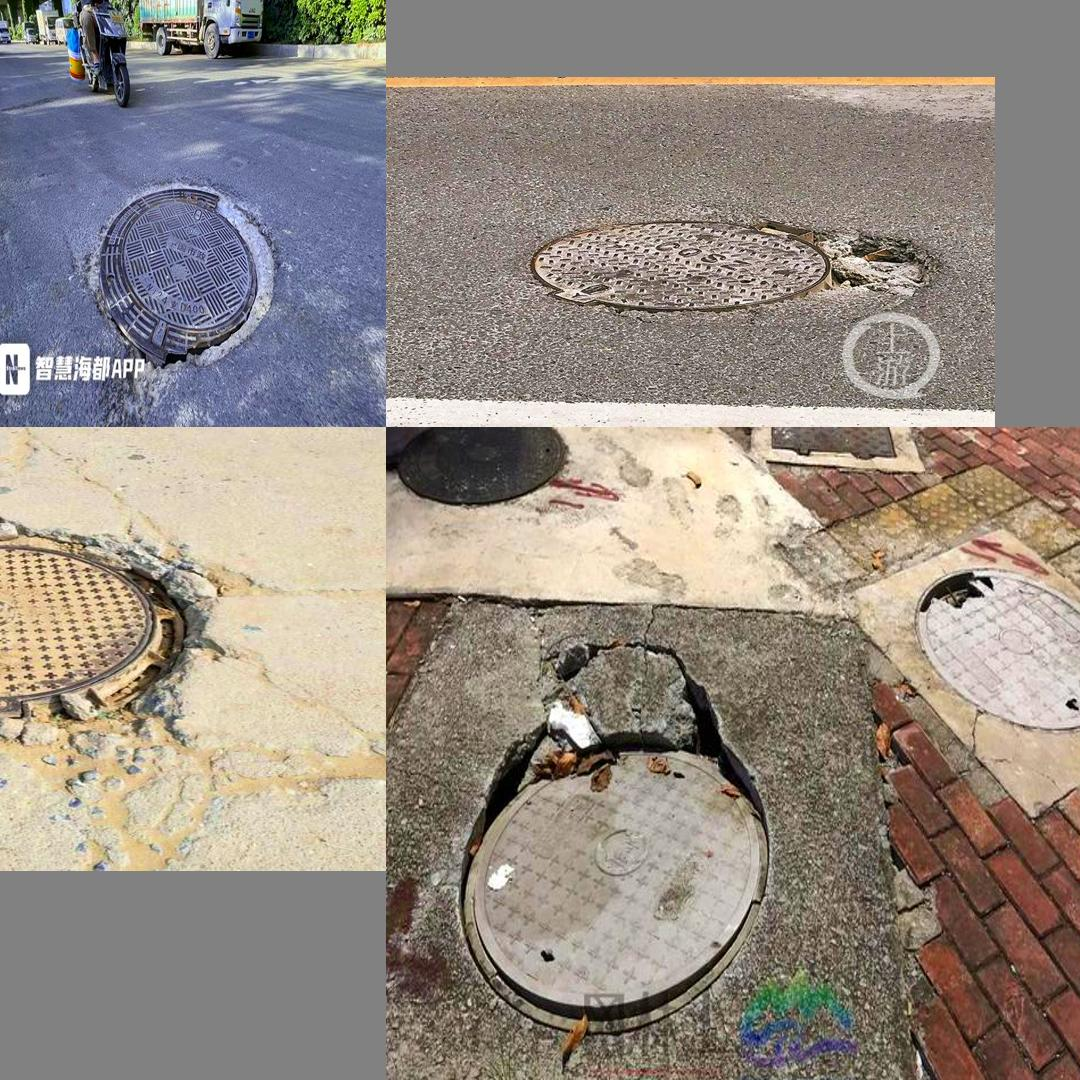circle: (389, 578, 929, 1080), (0, 506, 252, 752), (65, 158, 304, 389), (524, 215, 951, 323)
